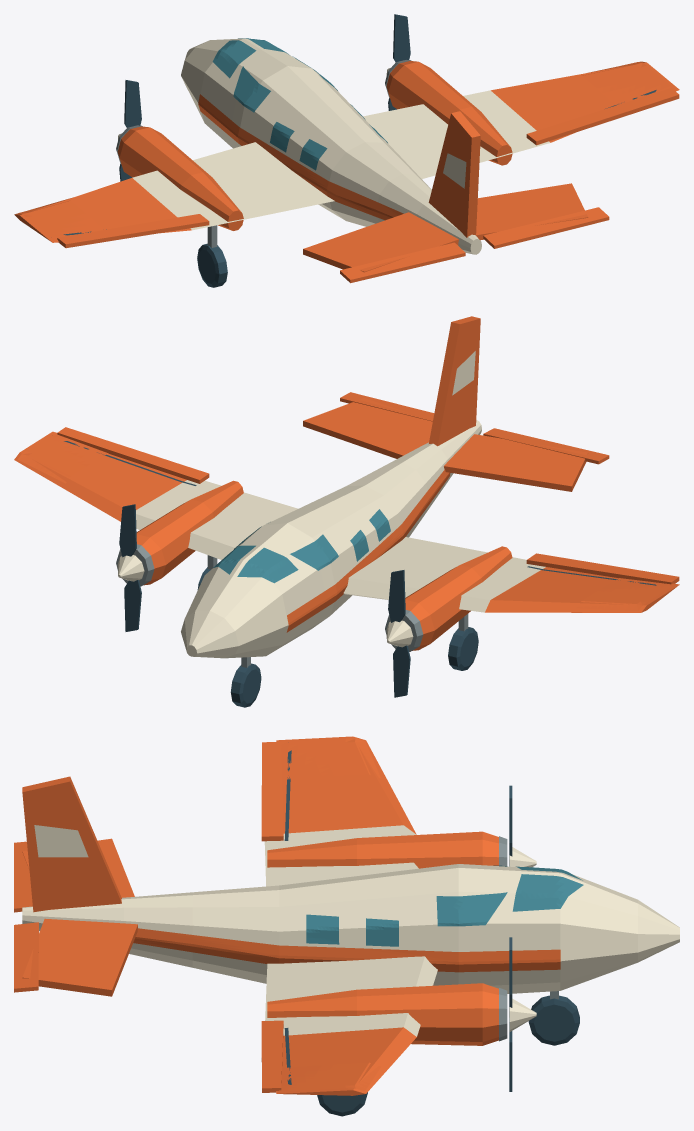
3 views of the same model, one above another, from view 1: azimuth 30°, elevation 25°; view 2: azimuth 150°, elevation 25°; view 3: azimuth 270°, elevation 25° (orthographic). The views are drawn at different scales.
Parts seen in each view (by area): view 1: leftWing_mesh, rightWing_mesh, hullCabin, tail_mesh, hullNose, hullAft, aileron-right-panel, aileron-left-panel, elevator-right-panel, elevator-left-panel, gear_mesh, propeller-left-blades (+1 smaller); view 2: leftWing_mesh, rightWing_mesh, tail_mesh, hullNose, hullCabin, gear_mesh, hullAft, aileron-right-panel, aileron-left-panel, propeller-left-blades, propeller-right-blades, elevator-left-panel (+1 smaller); view 3: hullCabin, rightWing_mesh, leftWing_mesh, hullNose, tail_mesh, hullAft, gear_mesh, aileron-left-panel, elevator-right-panel, aileron-right-panel, elevator-left-panel.
Boxes of the visible parts, x1,y1,x2,y2 form: leftWing_mesh: [14, 125, 334, 242]; rightWing_mesh: [363, 60, 679, 178]; hullCabin: [229, 60, 423, 226]; tail_mesh: [303, 111, 588, 272]; hullNose: [181, 38, 305, 148]; hullAft: [375, 174, 481, 254]; aileron-right-panel: [526, 88, 679, 145]; aileron-left-panel: [57, 214, 209, 248]; elevator-right-panel: [483, 207, 609, 248]; elevator-left-panel: [340, 242, 465, 283]; gear_mesh: [197, 225, 227, 287]; propeller-left-blades: [119, 80, 141, 181]; leftWing_mesh: [343, 537, 679, 651]; rightWing_mesh: [14, 431, 297, 586]; tail_mesh: [303, 316, 587, 491]; hullNose: [181, 530, 327, 658]; hullCabin: [236, 462, 429, 633]; gear_mesh: [197, 555, 478, 707]; hullAft: [389, 420, 481, 512]; aileron-right-panel: [57, 427, 209, 483]; aileron-left-panel: [526, 553, 679, 584]; propeller-left-blades: [388, 570, 410, 697]; propeller-right-blades: [119, 504, 141, 631]; elevator-left-panel: [483, 428, 609, 464]; hullCabin: [192, 864, 479, 985]; rightWing_mesh: [265, 956, 536, 1095]; leftWing_mesh: [264, 736, 536, 886]; hullNose: [479, 865, 679, 993]; tail_mesh: [22, 776, 137, 996]; hullAft: [22, 892, 192, 967]; gear_mesh: [317, 991, 579, 1116]; aileron-left-panel: [261, 741, 283, 841]; elevator-right-panel: [14, 922, 38, 992]; aileron-right-panel: [261, 1020, 283, 1092]; elevator-left-panel: [14, 841, 32, 912].
Bounding box in the file's own units: 14 × 4.88 × 11.14.
